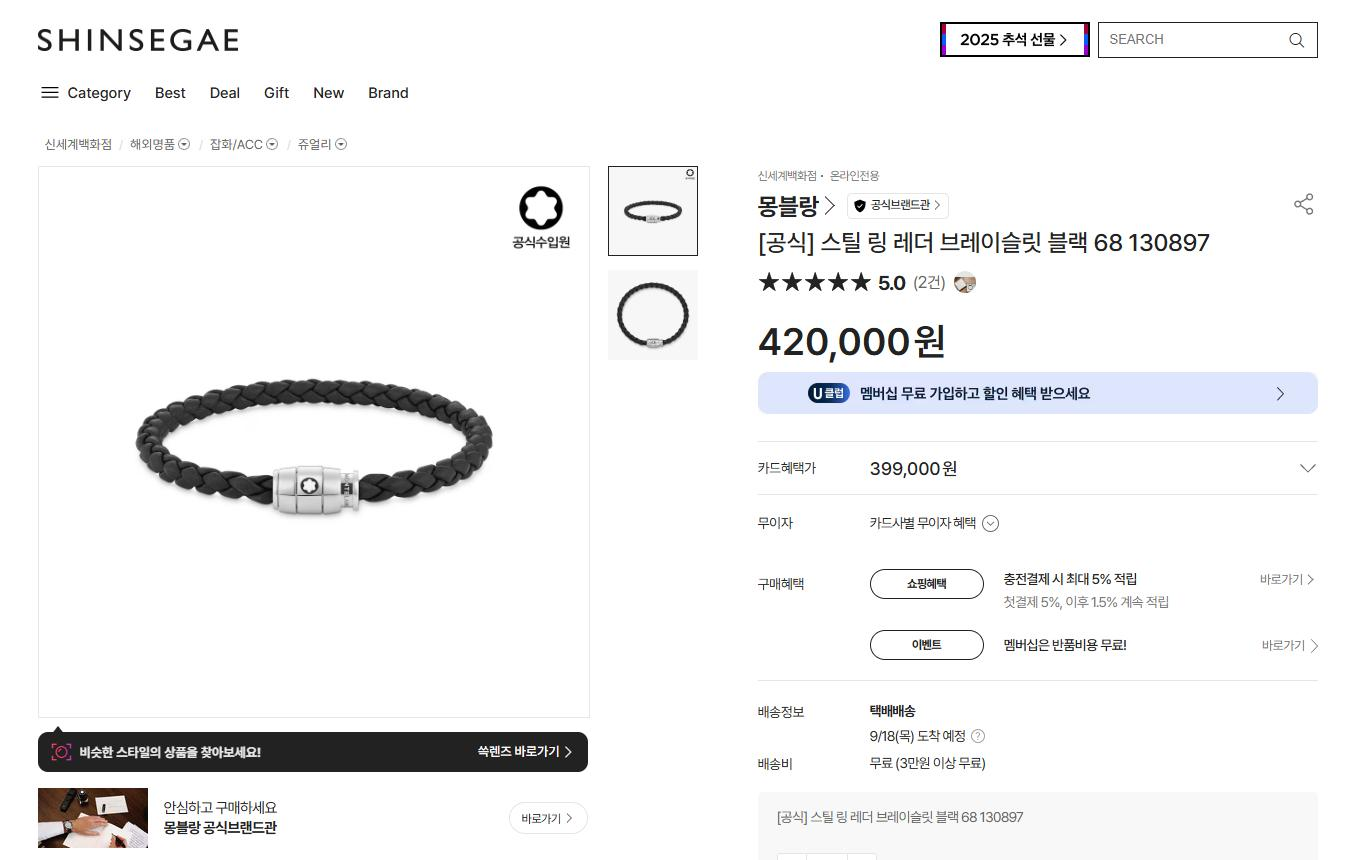button: (728, 364, 1332, 414), (36, 734, 594, 773), (618, 166, 710, 260), (613, 278, 714, 349), (943, 16, 1096, 56), (1251, 643, 1345, 689), (496, 791, 600, 828), (875, 579, 991, 606), (870, 638, 975, 661), (358, 82, 425, 118), (1295, 458, 1351, 499), (69, 81, 143, 111), (1255, 561, 1324, 593), (761, 194, 834, 221), (850, 200, 951, 218), (1291, 185, 1326, 229), (311, 81, 356, 114), (253, 81, 294, 111), (154, 79, 196, 108), (972, 726, 1008, 755), (195, 81, 241, 103)
input_field: (1095, 15, 1321, 61)
